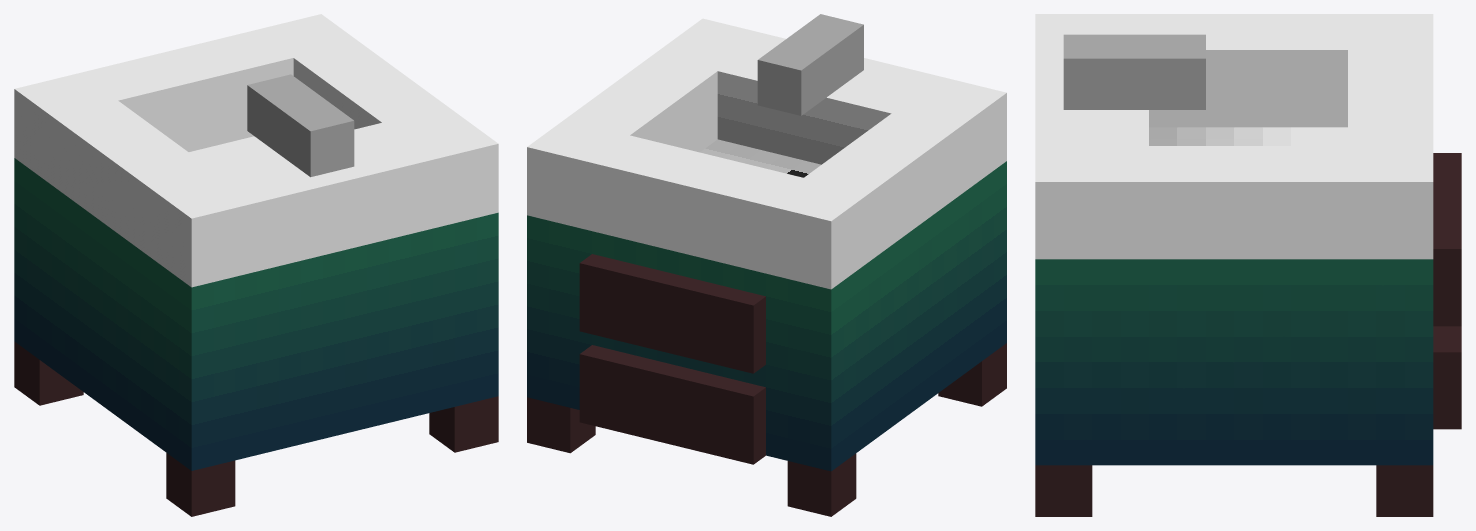
Rendered from Faucet.fbx.
3 views of the same model, side by side, from view 1: azimuth 30°, elevation 25°; view 2: azimuth 150°, elevation 25°; view 3: azimuth 270°, elevation 25° (orthographic). The views are drawn at different scales.
Parts seen in each view (by area): view 1: cube_4, cube_5, cube_6, cube_8, cube_9, cube_7, cube_2, cube_1, cube_3; view 2: cube_4, cube_6, cube_5, cube_10, cube_11, cube_8, cube_7, cube_9, cube_3, cube, cube_2; view 3: cube_4, cube_7, cube_5, cube_6, cube_8, cube_9, cube_10, cube, cube_1, cube_11.
Boxes of the visible parts, left/top/right/bottom form: cube_4: left=14, top=136, right=498, bottom=470; cube_5: left=141, top=106, right=498, bottom=287; cube_6: left=14, top=14, right=358, bottom=184; cube_8: left=52, top=100, right=206, bottom=249; cube_9: left=247, top=74, right=354, bottom=177; cube_7: left=293, top=42, right=447, bottom=129; cube_2: left=166, top=453, right=235, bottom=516; cube_1: left=429, top=396, right=498, bottom=452; cube_3: left=14, top=341, right=83, bottom=405; cube_4: left=527, top=139, right=1006, bottom=471; cube_6: left=527, top=119, right=868, bottom=289; cube_5: left=653, top=18, right=1006, bottom=197; cube_10: left=579, top=254, right=765, bottom=373; cube_11: left=579, top=345, right=765, bottom=464; cube_8: left=804, top=113, right=956, bottom=261; cube_7: left=565, top=55, right=717, bottom=152; cube_9: left=757, top=14, right=863, bottom=115; cube_3: left=787, top=453, right=856, bottom=516; cube: left=527, top=397, right=595, bottom=453; cube_2: left=938, top=343, right=1006, bottom=406; cube_4: left=1035, top=127, right=1433, bottom=465; cube_7: left=1149, top=146, right=1347, bottom=259; cube_5: left=1035, top=14, right=1148, bottom=259; cube_6: left=1348, top=14, right=1433, bottom=259; cube_8: left=1149, top=14, right=1347, bottom=127; cube_9: left=1063, top=34, right=1205, bottom=109; cube_10: left=1433, top=153, right=1461, bottom=326; cube: left=1376, top=465, right=1433, bottom=516; cube_1: left=1035, top=465, right=1092, bottom=516; cube_11: left=1433, top=326, right=1461, bottom=429.
Size of the model in its own units: 87.5 by 93.75 by 93.75.
1 material, 1 textured.
